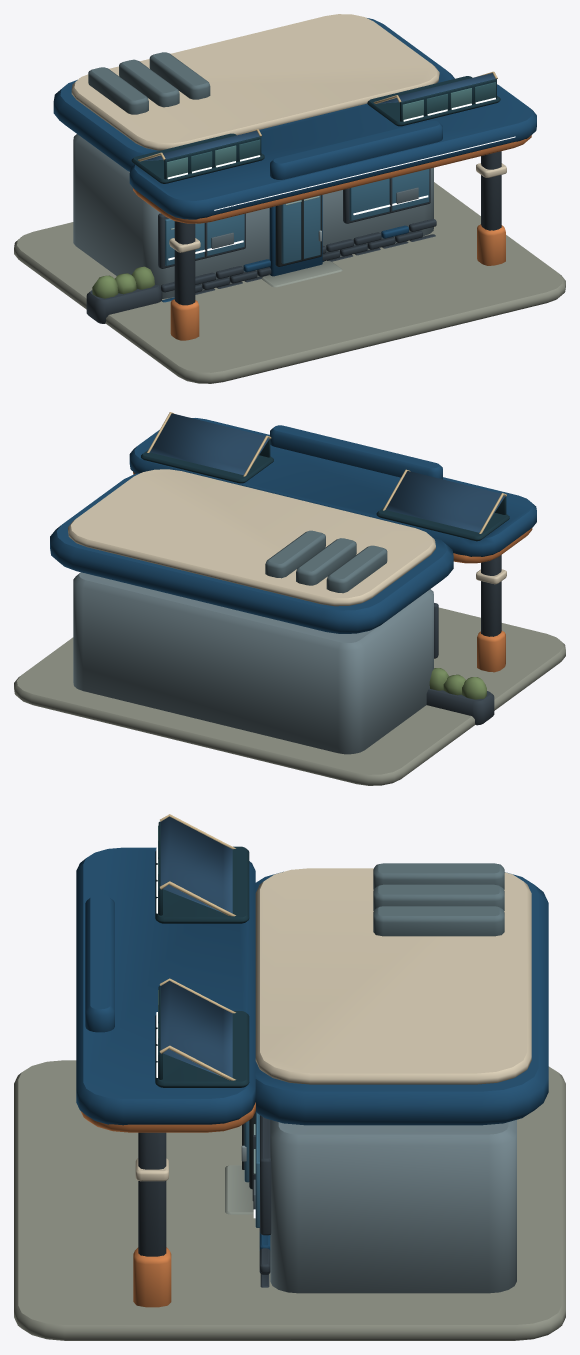
Rendered from metro_fuel.glb.
3 renders of one model, top to bottom at view 1: azimuth 30°, elevation 25°; view 2: azimuth 150°, elevation 25°; view 3: azimuth 270°, elevation 25°, orthographic. The views are drawn at different scales.
Visible parts, largest first — view 1: Fuel; view 2: Fuel; view 3: Fuel.
Boxes of the visible parts, x1=… form: Fuel: x1=14, y1=14, x2=565, y2=383; Fuel: x1=14, y1=412, x2=565, y2=785; Fuel: x1=14, y1=814, x2=565, y2=1340.
Size of the model in its own units: 8.54 by 4.02 by 7.3.
